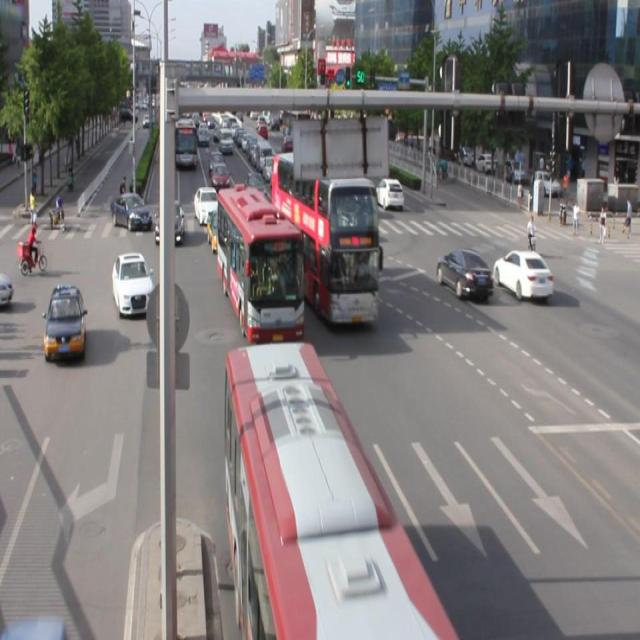car: (492, 247, 552, 298), (436, 247, 492, 301), (113, 252, 156, 316)
van: (226, 342, 457, 640), (272, 152, 378, 322), (218, 186, 304, 343)
